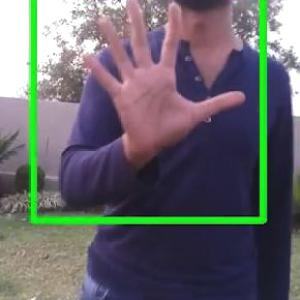follow_hand: (76, 0, 250, 157)
